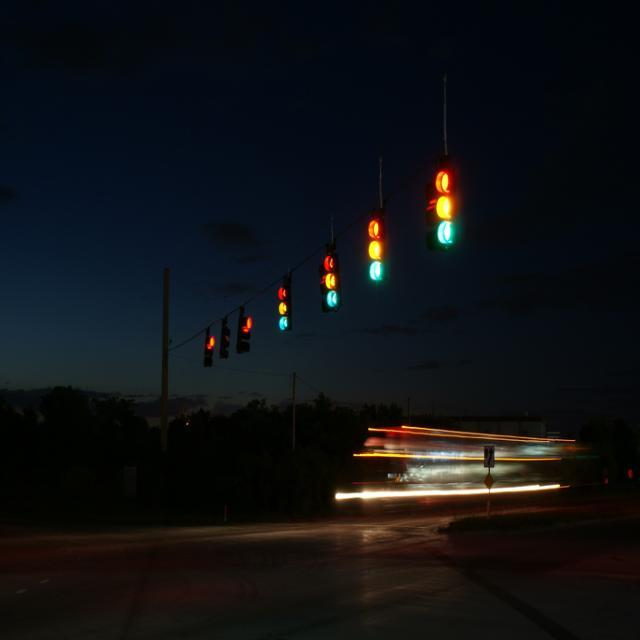off traffic light: (220, 325, 233, 357)
traffic light: (431, 160, 458, 246), (364, 213, 390, 284), (321, 251, 343, 312), (275, 283, 294, 333), (235, 313, 253, 354), (204, 335, 213, 368)
